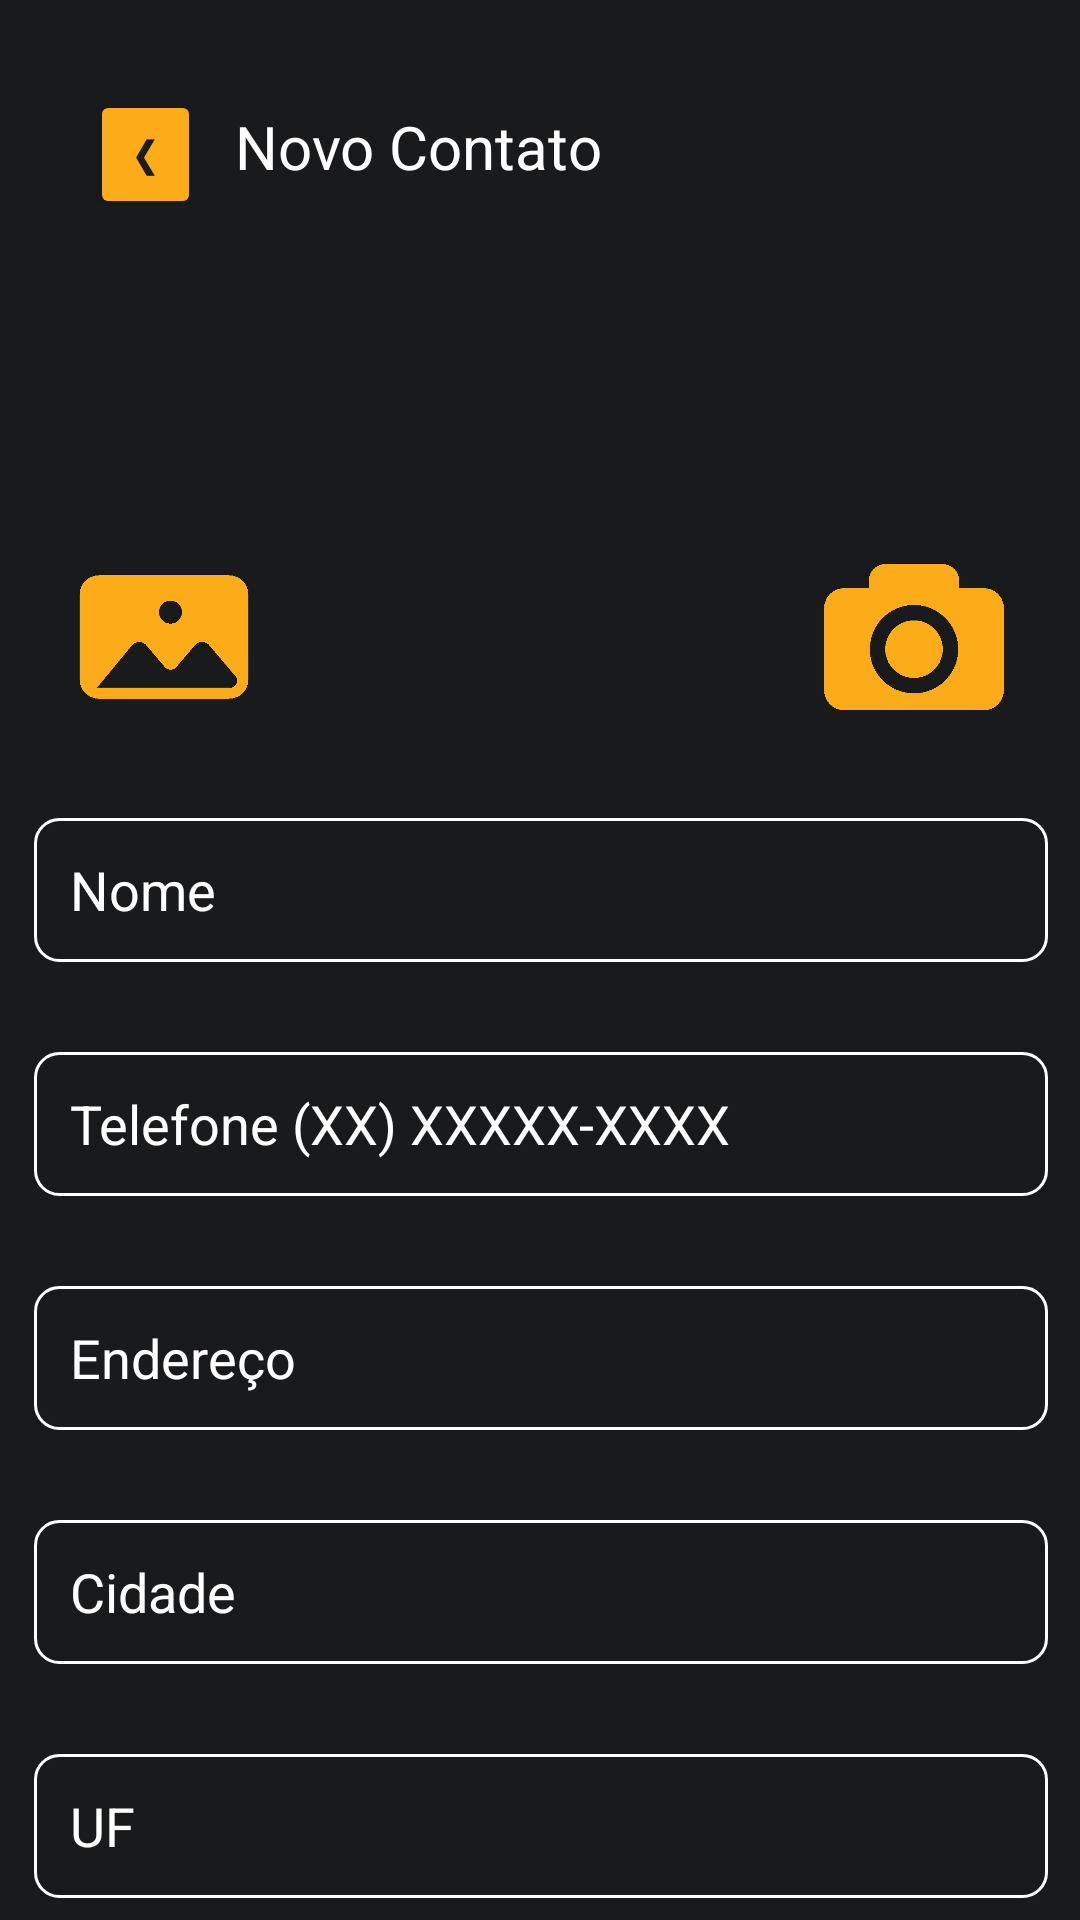

Screen size 1080 x 1920. Icon name, then its box in pixels as (x1, y1, x2, y2):
camera: (824, 564, 1004, 710)
galery: (79, 575, 249, 699)
